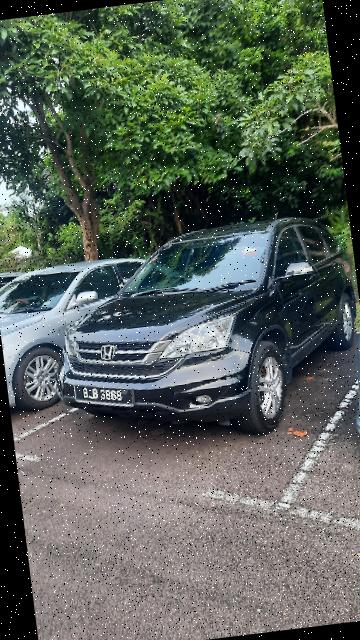License_Plate: (71, 375, 138, 415)
car: (49, 210, 360, 454)
